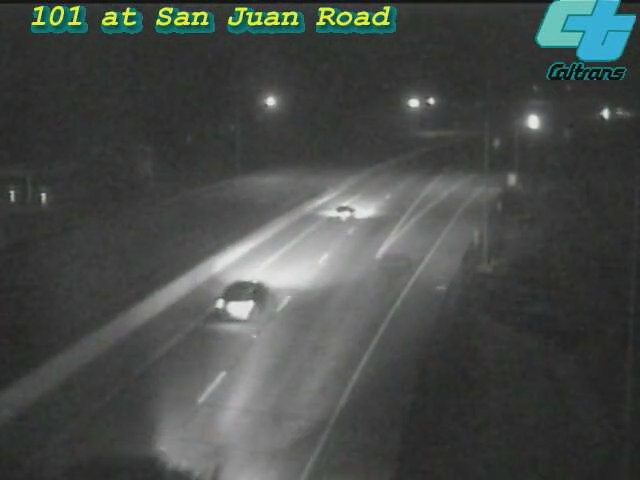vehicle: (301, 174, 381, 254), (203, 259, 283, 339), (506, 97, 556, 147), (581, 89, 631, 139), (597, 89, 640, 139)
